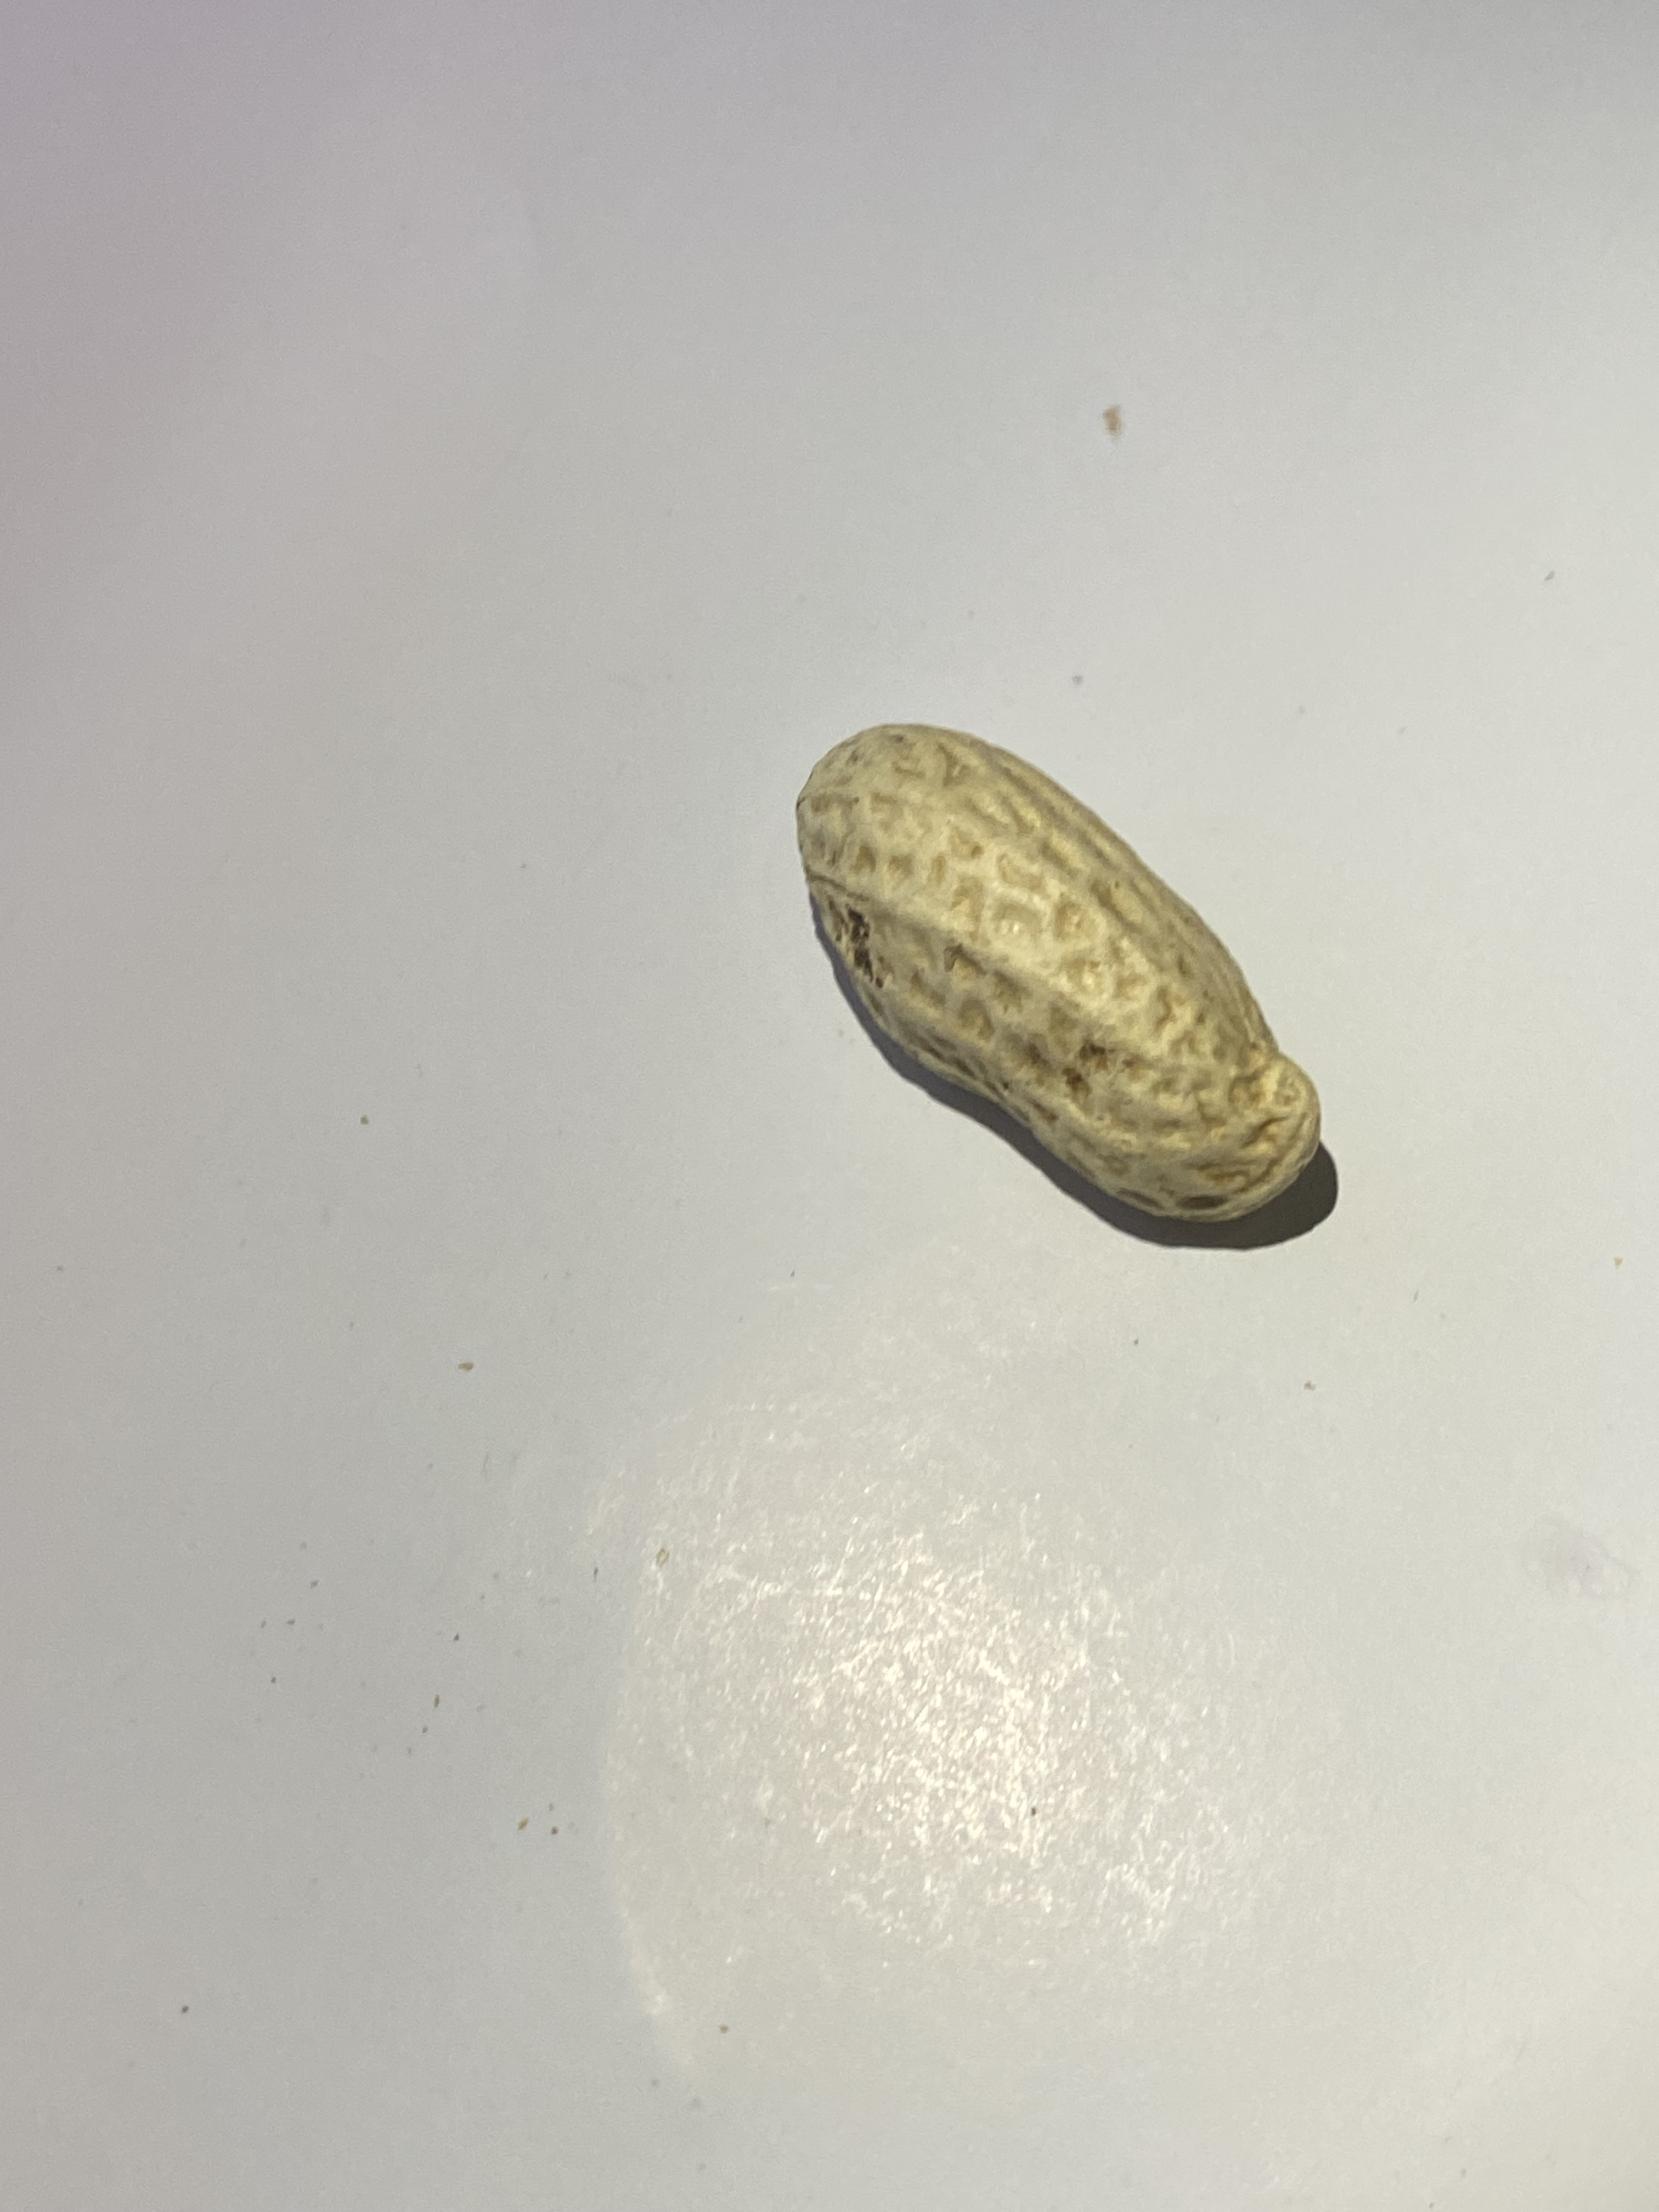kacang2: (763, 712, 1328, 1237)
